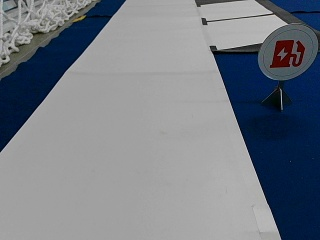battery: (257, 24, 316, 81)
